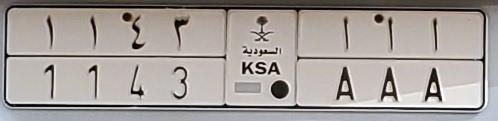1: (80, 12, 104, 101), (40, 11, 61, 100)
3: (167, 11, 190, 101)
4: (127, 11, 148, 102)
A: (418, 14, 446, 102), (376, 16, 403, 104), (335, 14, 357, 103)
